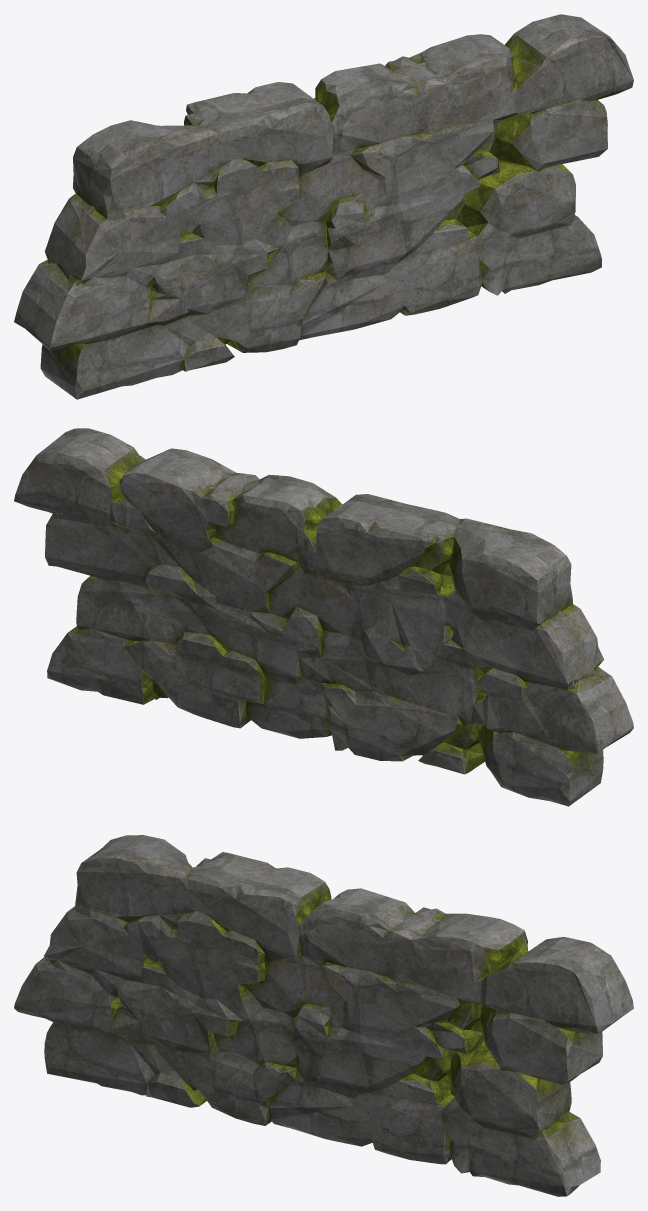
The model's file is mdl_Krank_stone_wall.gltf.
3 renders of one model, top to bottom at view 1: azimuth 30°, elevation 25°; view 2: azimuth 150°, elevation 25°; view 3: azimuth 330°, elevation 25°, orthographic.
Visible parts, largest first — view 1: Stone_WallFragment; view 2: Stone_WallFragment; view 3: Stone_WallFragment.
Part boxes in pixels (bbox=[...]): Stone_WallFragment: bbox=[14, 14, 633, 399]; Stone_WallFragment: bbox=[14, 428, 633, 806]; Stone_WallFragment: bbox=[14, 835, 633, 1196].
Bounding box in the file's own units: 352 × 137 × 43.86.
Materials: 1 (1 with a texture image).
